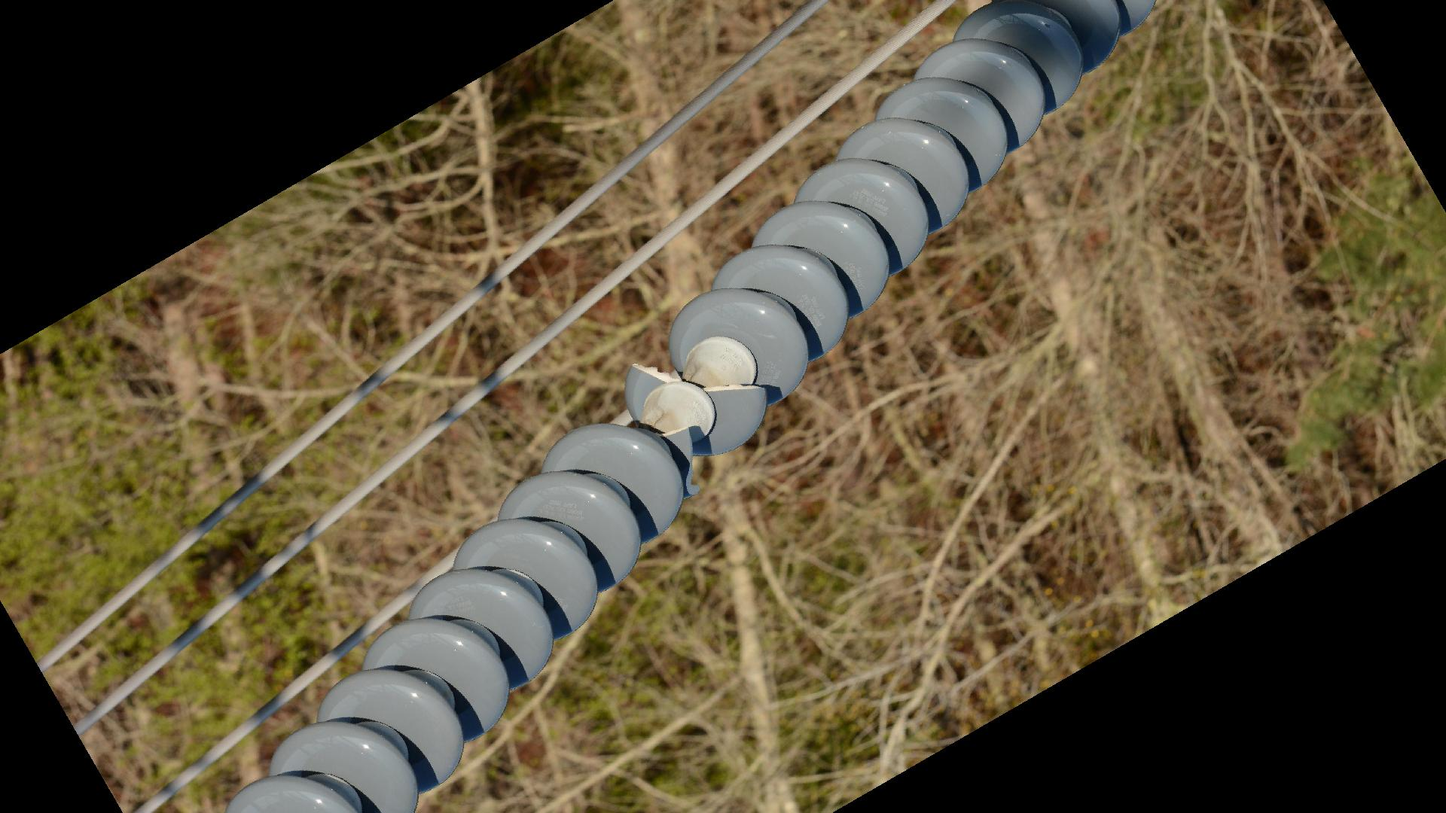insulator: (217, 1, 1156, 813)
insulator_breakage: (626, 359, 766, 396), (653, 422, 708, 505)
